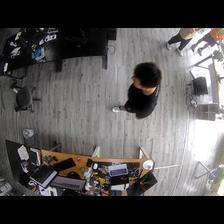normal: (111, 61, 163, 121)
